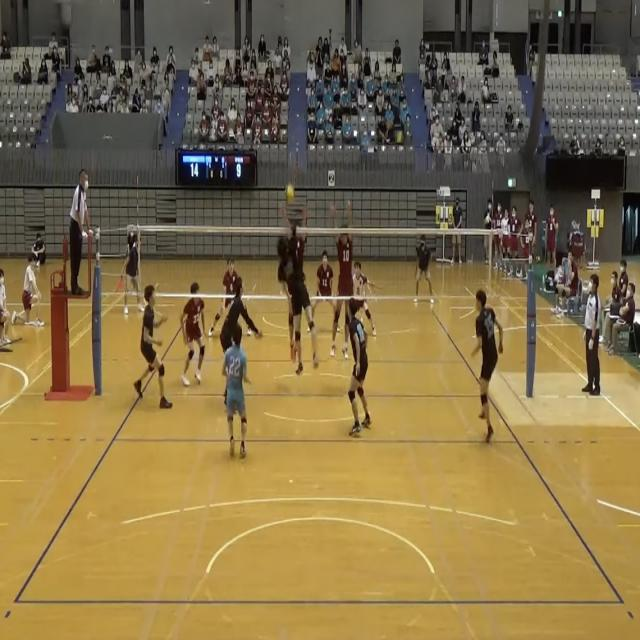spike: (274, 182, 322, 382)
